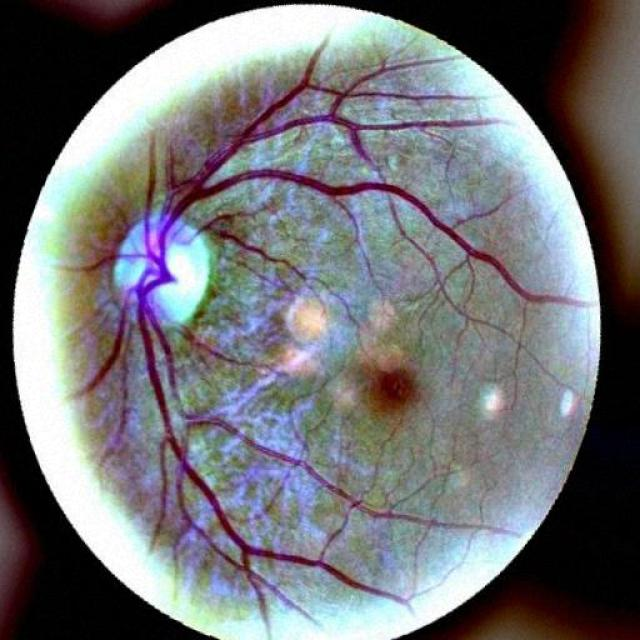Macula: (368, 366, 414, 411)
Nerves: (70, 60, 580, 616), (185, 412, 411, 519), (284, 112, 490, 165), (181, 325, 309, 379)
Optic Disk: (115, 214, 209, 324)
